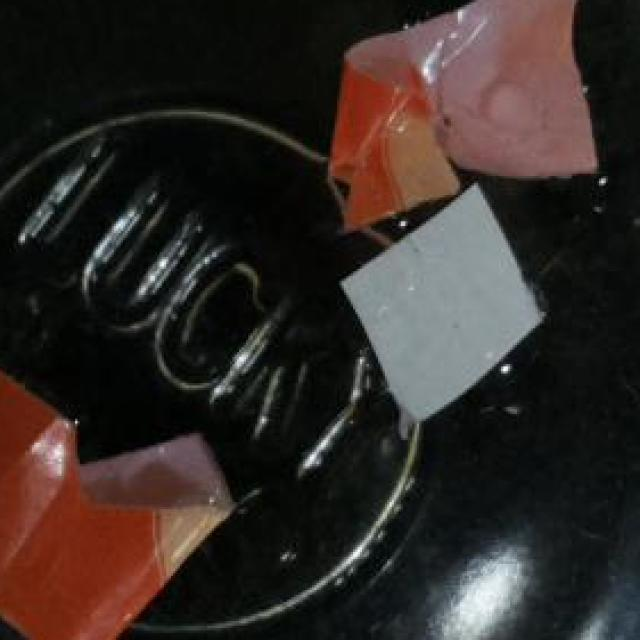Microplastic: (0, 328, 244, 640), (287, 0, 617, 207), (312, 183, 569, 421)
